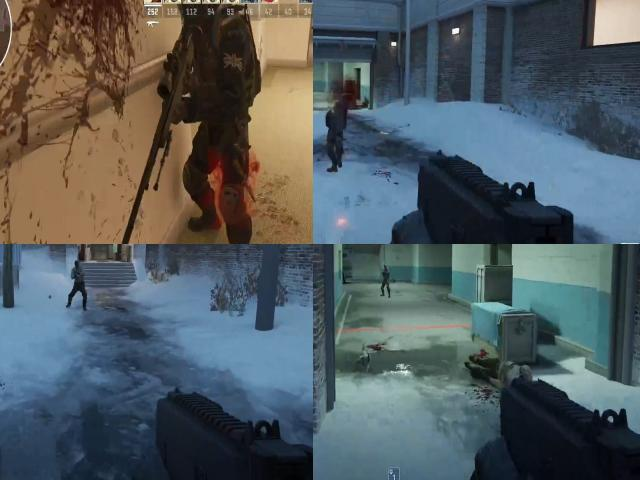CT: (178, 20, 256, 140)
Dead: (323, 108, 351, 166), (381, 263, 391, 291)
T: (70, 259, 86, 293)
T-Head: (71, 261, 83, 271)
